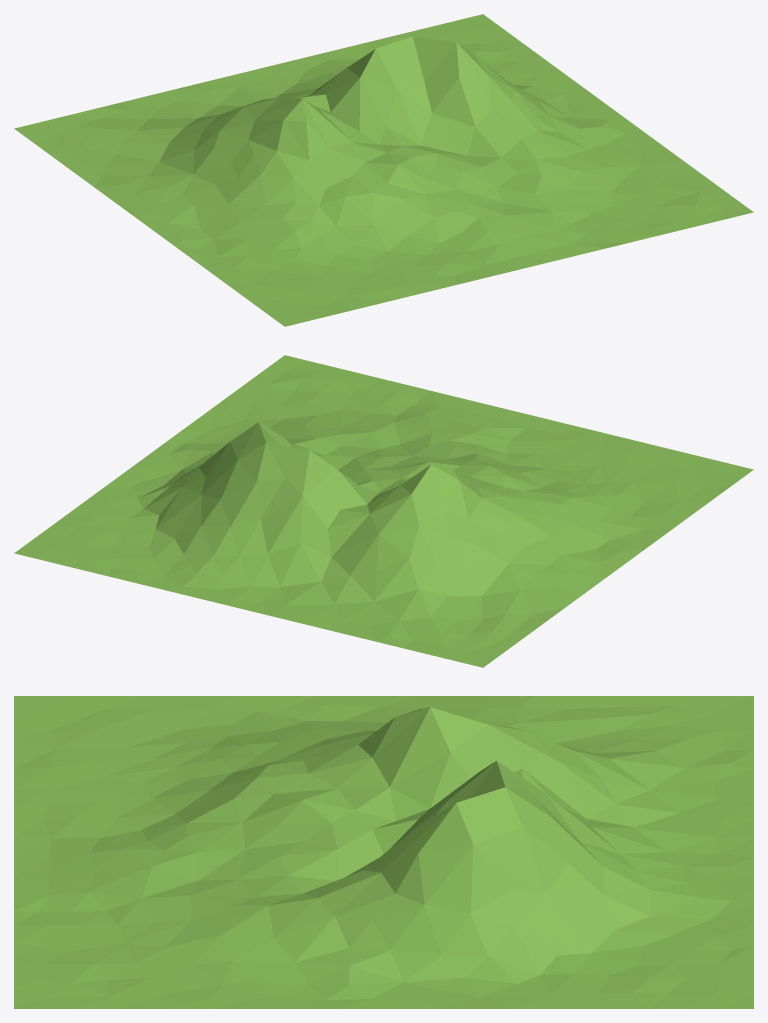
The model's file is MT_Terrain_M_a_24.fbx.
The picture shows the model from 3 angles, top to bottom: view 1: azimuth 30°, elevation 25°; view 2: azimuth 150°, elevation 25°; view 3: azimuth 270°, elevation 25°; orthographic projection. The views are drawn at different scales.
Visible parts, largest first — view 1: MT_Terrain_M_a_24; view 2: MT_Terrain_M_a_24; view 3: MT_Terrain_M_a_24.
Part boxes in pixels (x1=…): MT_Terrain_M_a_24: x1=14, y1=14, x2=753, y2=326; MT_Terrain_M_a_24: x1=14, y1=355, x2=753, y2=667; MT_Terrain_M_a_24: x1=14, y1=696, x2=753, y2=1008.
Size of the model in its own units: 5000 by 870 by 5000.
